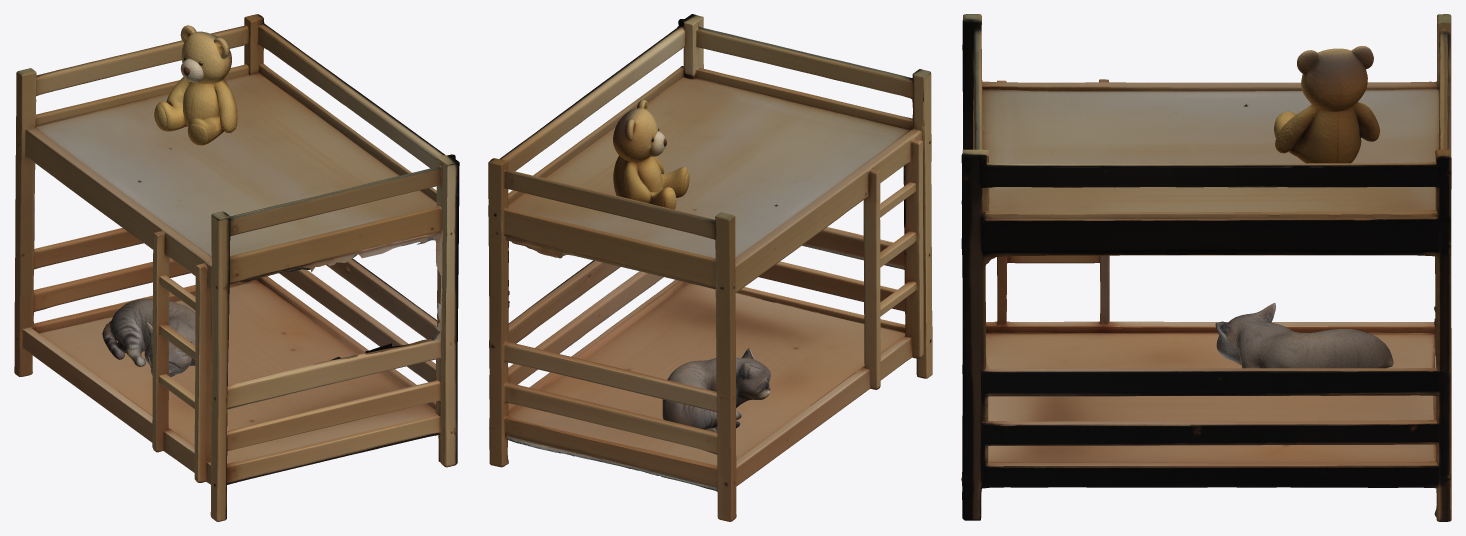
Rendered from vlm-3.glb.
3 views of the same model, side by side, from view 1: azimuth 30°, elevation 25°; view 2: azimuth 150°, elevation 25°; view 3: azimuth 270°, elevation 25° (orthographic). The views are drawn at different scales.
Parts seen in each view (by area): view 1: mesh_0; view 2: mesh_0; view 3: mesh_0.
Boxes of the visible parts, x1,y1,x2,y2 form: mesh_0: (14,14,459,521); mesh_0: (488,14,932,521); mesh_0: (961,14,1451,521).
Bounding box in the file's own units: 3.12 × 4.07 × 4.35.
Materials: 3 (3 with a texture image).
